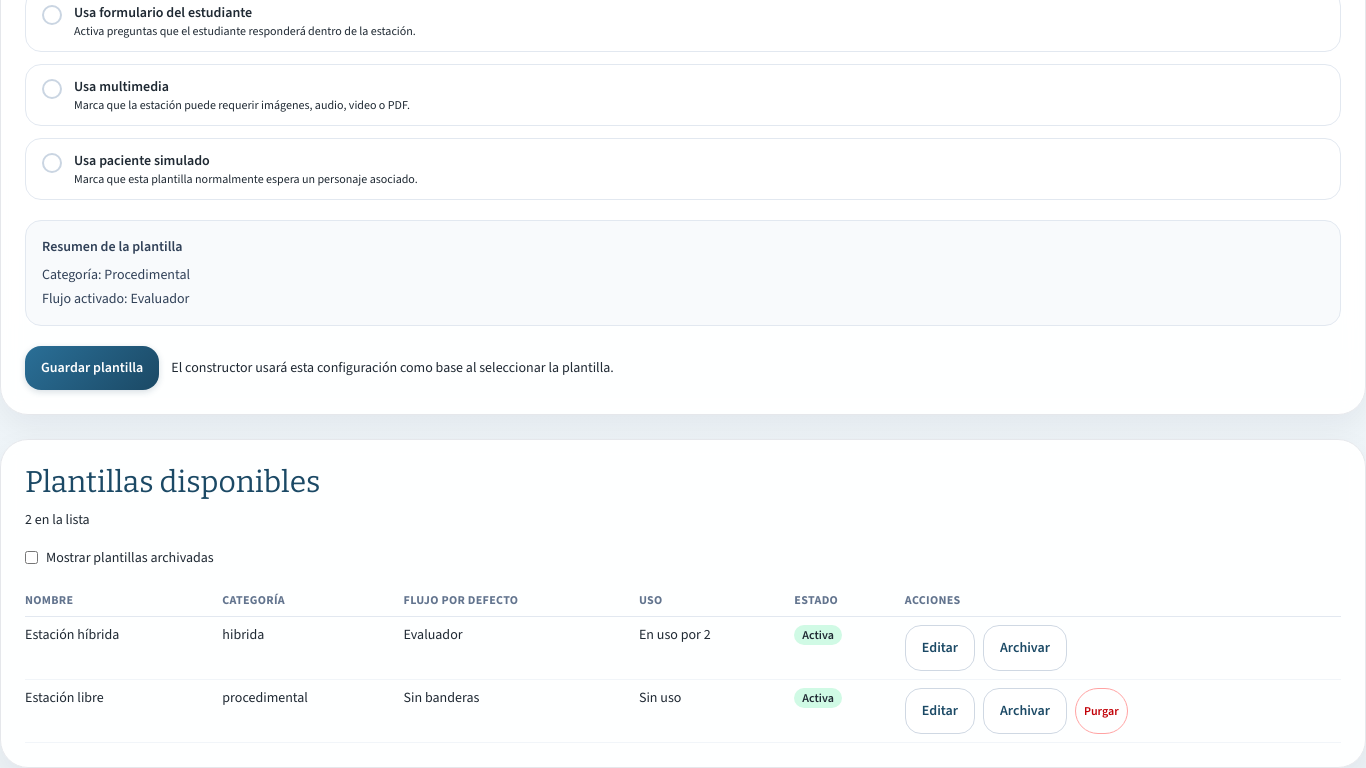
it: TemplatesPage — CRUD real (OPT-7b) › archivar recarga la lista sin la plantilla archivada
(page scrolled)
Expected: the text "Estación libre" is shown, [25,679,222,742]
Click the button "Archivar" in the row of "Estación libre" at (1025, 711), box [983,688,1067,734]
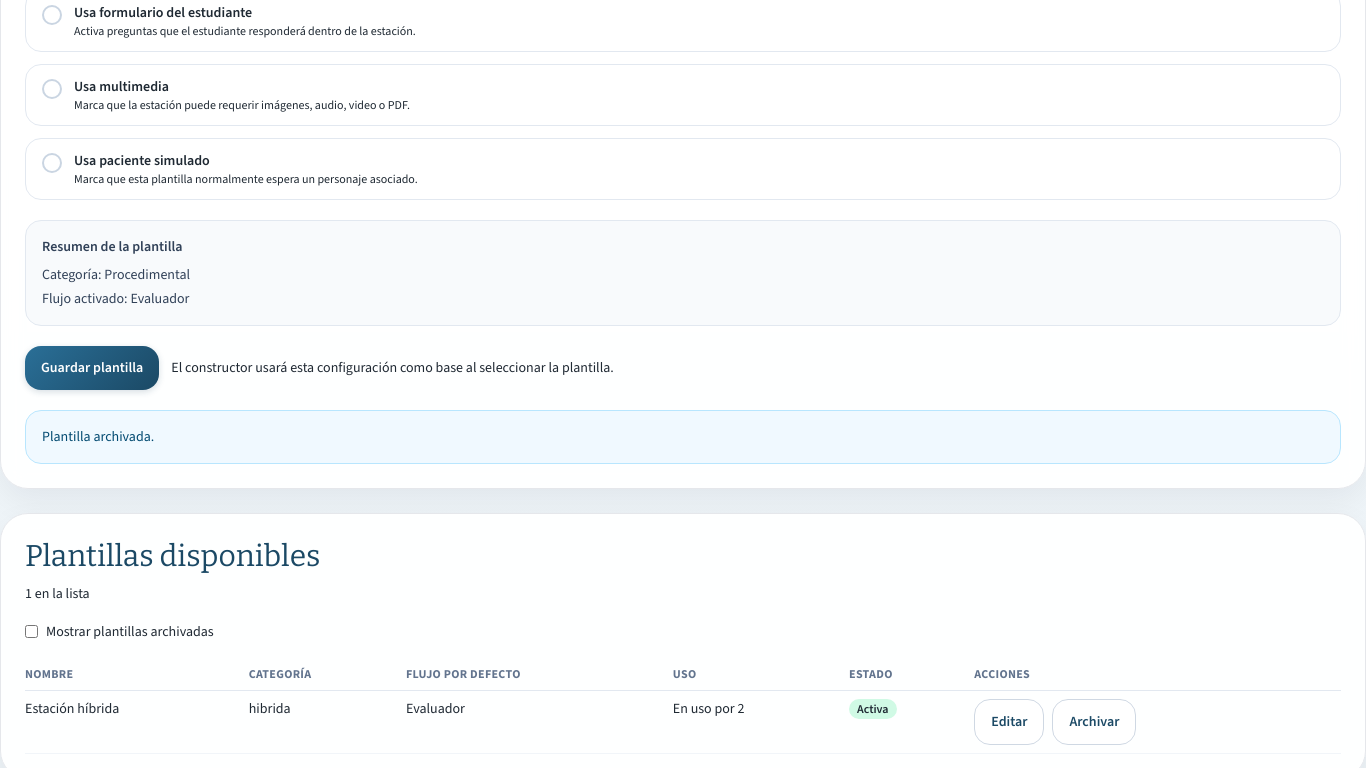
Expected: the text "Estación libre" is gone
